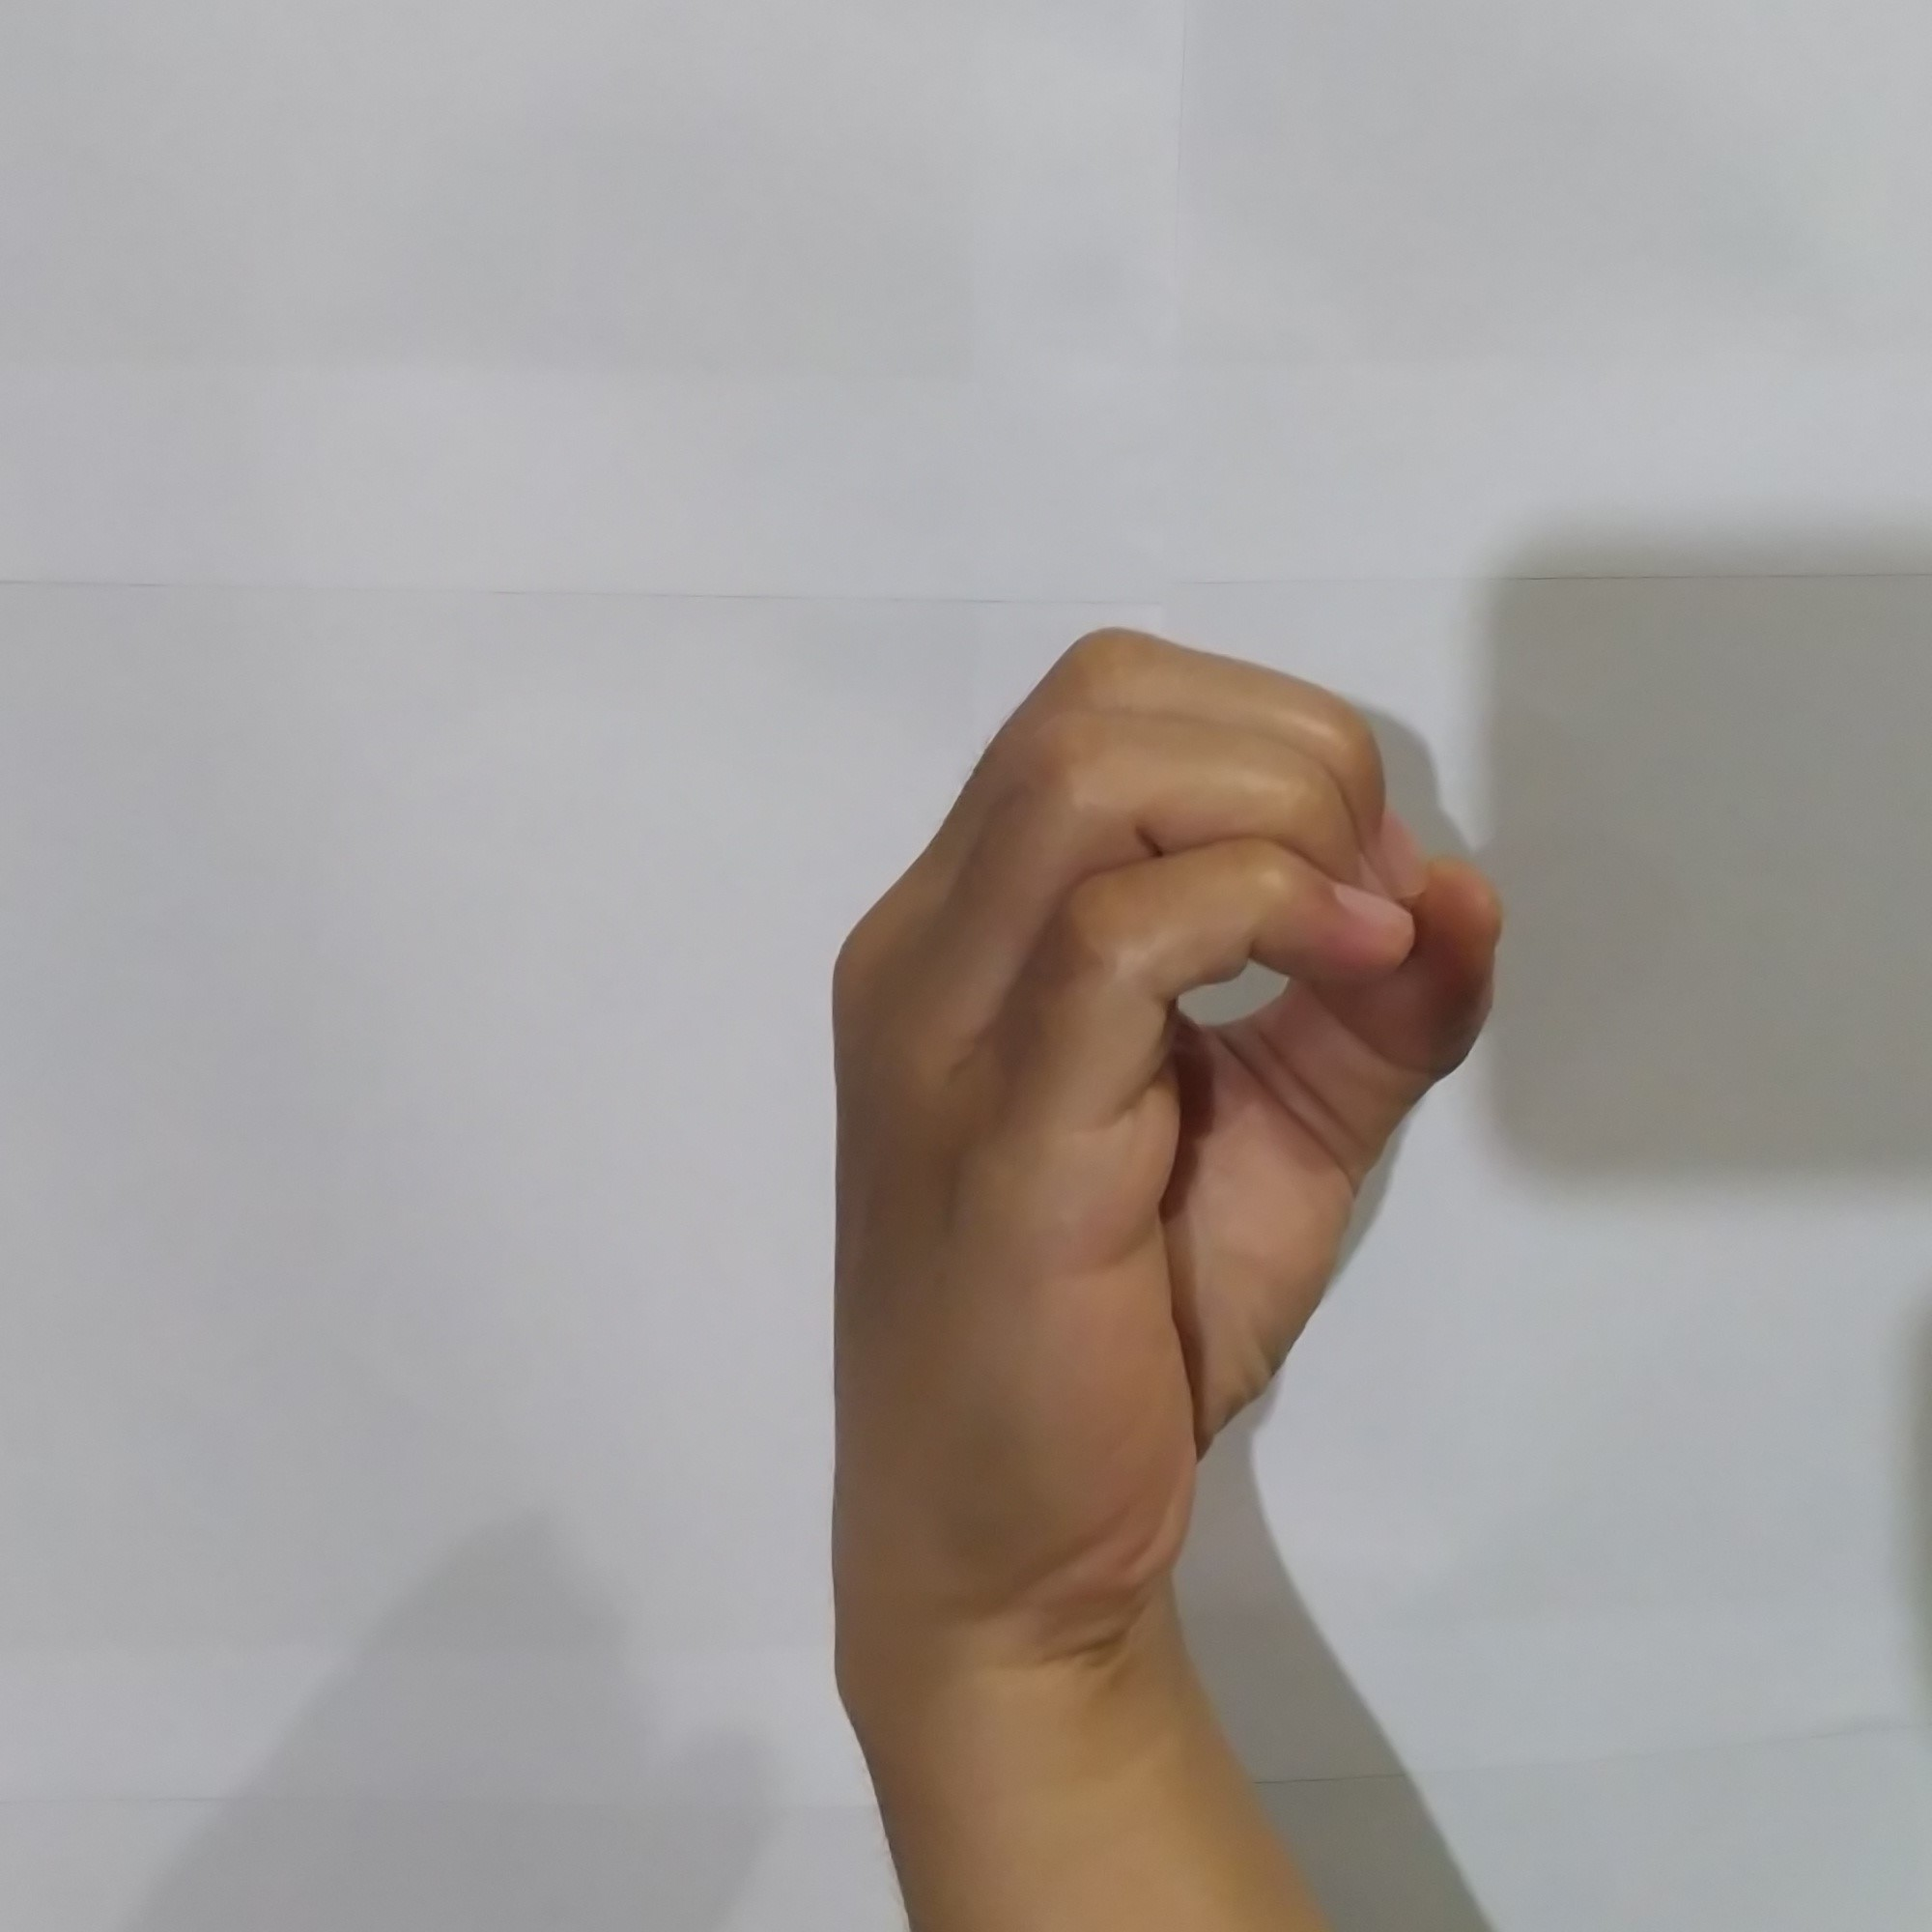O: (789, 600, 1527, 1624)
